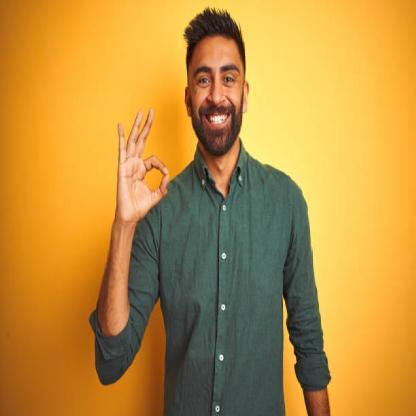ok: (112, 104, 171, 222)
